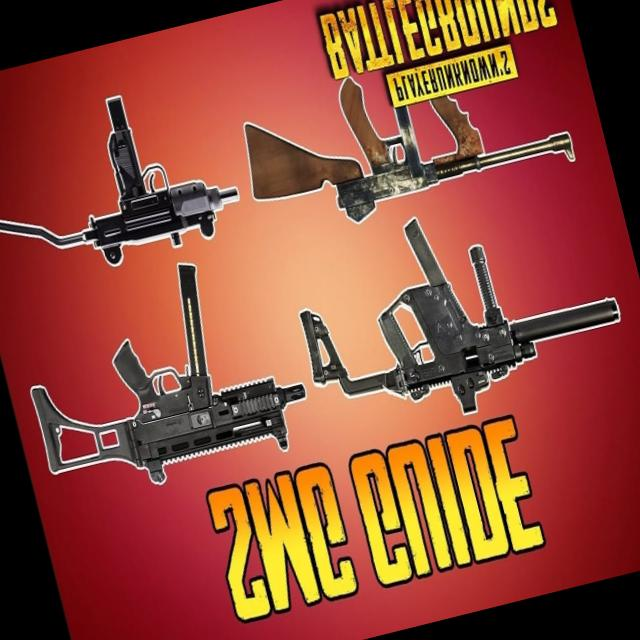Weapon: (280, 169, 638, 452), (3, 240, 322, 515), (227, 22, 581, 245), (0, 70, 250, 295)
